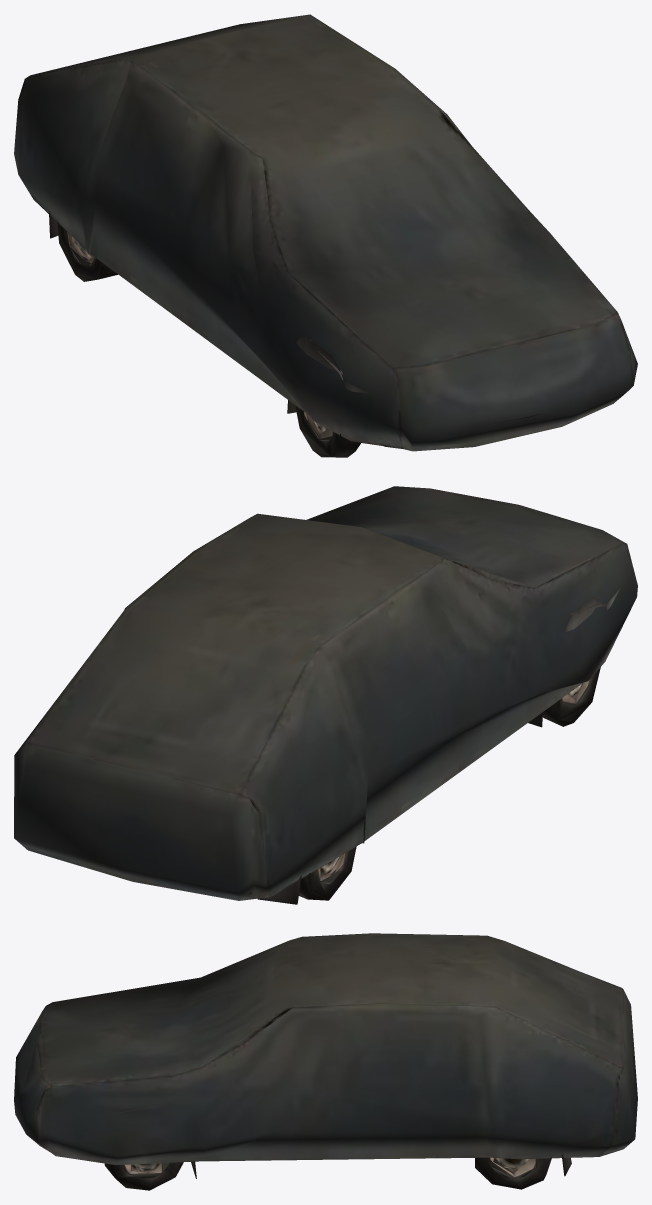
The model's file is covered_car.glb.
3 renders of one model, top to bottom at view 1: azimuth 30°, elevation 25°; view 2: azimuth 150°, elevation 25°; view 3: azimuth 270°, elevation 25°, orthographic. The views are drawn at different scales.
Visible parts, largest first — view 1: covered_car_wheel_01; view 2: covered_car_wheel_01; view 3: covered_car_wheel_01.
Part boxes in pixels (box(x1,y1,x2,y2)): covered_car_wheel_01: box(14, 14, 637, 457); covered_car_wheel_01: box(14, 486, 637, 904); covered_car_wheel_01: box(14, 933, 637, 1190).
Bounding box in the file's own units: 1.79 × 1.4 × 4.36.
1 material, 1 textured.
